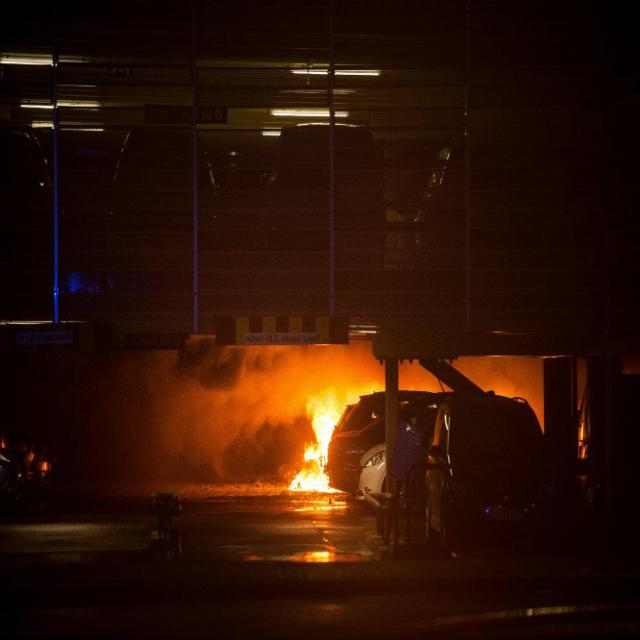fire: (272, 357, 384, 511)
